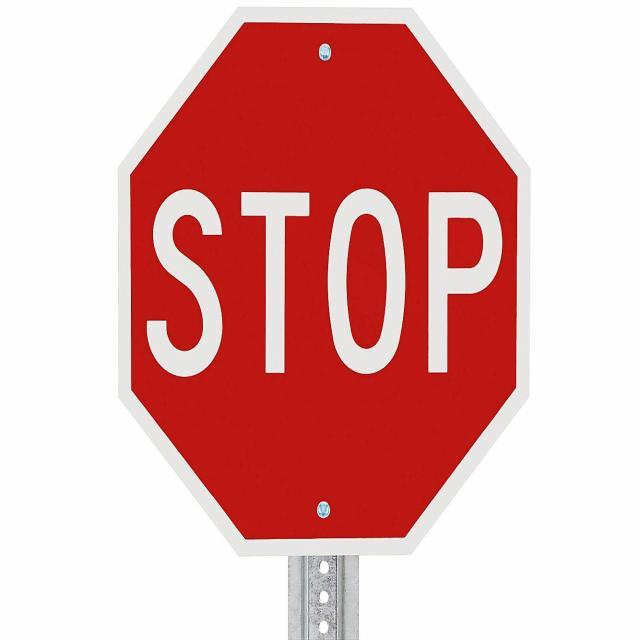stop: (116, 6, 531, 558)
